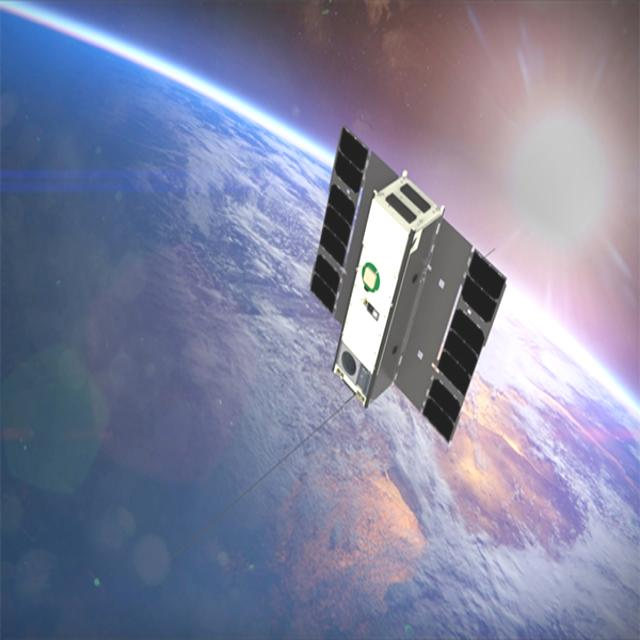satellite: (308, 113, 507, 453)
